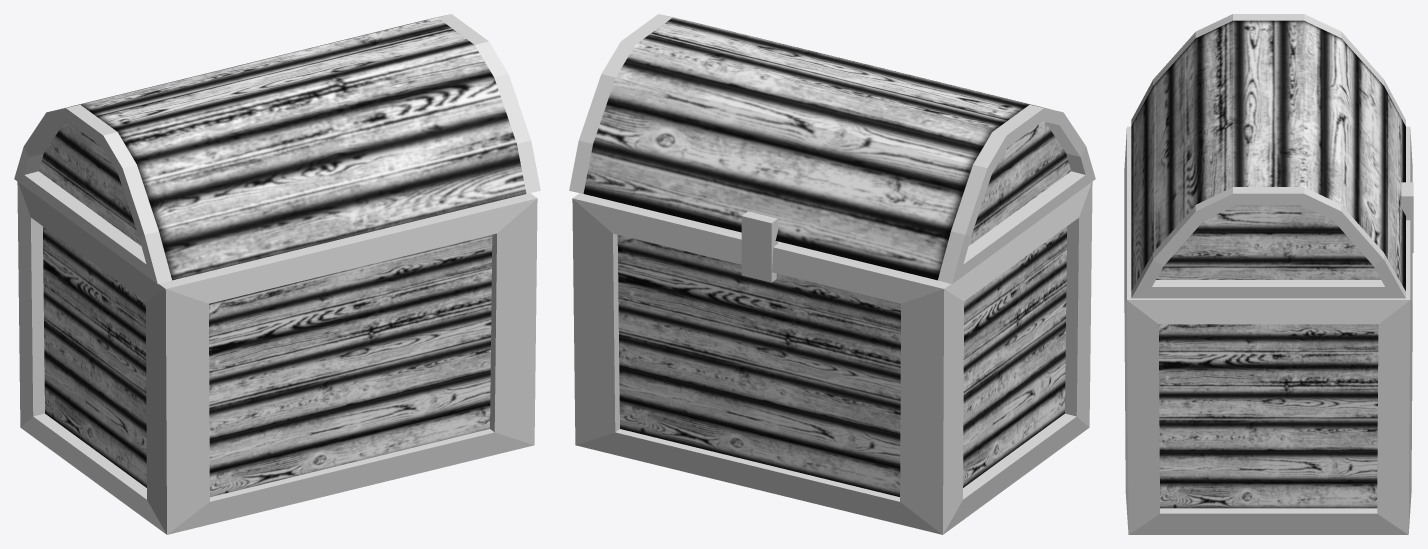
Rendered from Loot.fbx.
3 renders of one model, left to right at view 1: azimuth 30°, elevation 25°; view 2: azimuth 150°, elevation 25°; view 3: azimuth 270°, elevation 25°, orthographic. The views are drawn at different scales.
Visible parts, largest first — view 1: Chest_Low, Chest_Low_Top; view 2: Chest_Low, Chest_Low_Top; view 3: Chest_Low_Top, Chest_Low.
Part boxes in pixels (x1,y1,x2,y2): Chest_Low: (17,181,537,534); Chest_Low_Top: (14,14,540,283); Chest_Low: (572,181,1092,534); Chest_Low_Top: (569,14,1095,283); Chest_Low_Top: (1131,14,1413,298); Chest_Low: (1124,126,1412,534).
Size of the model in its own units: 209 by 187 by 142.
